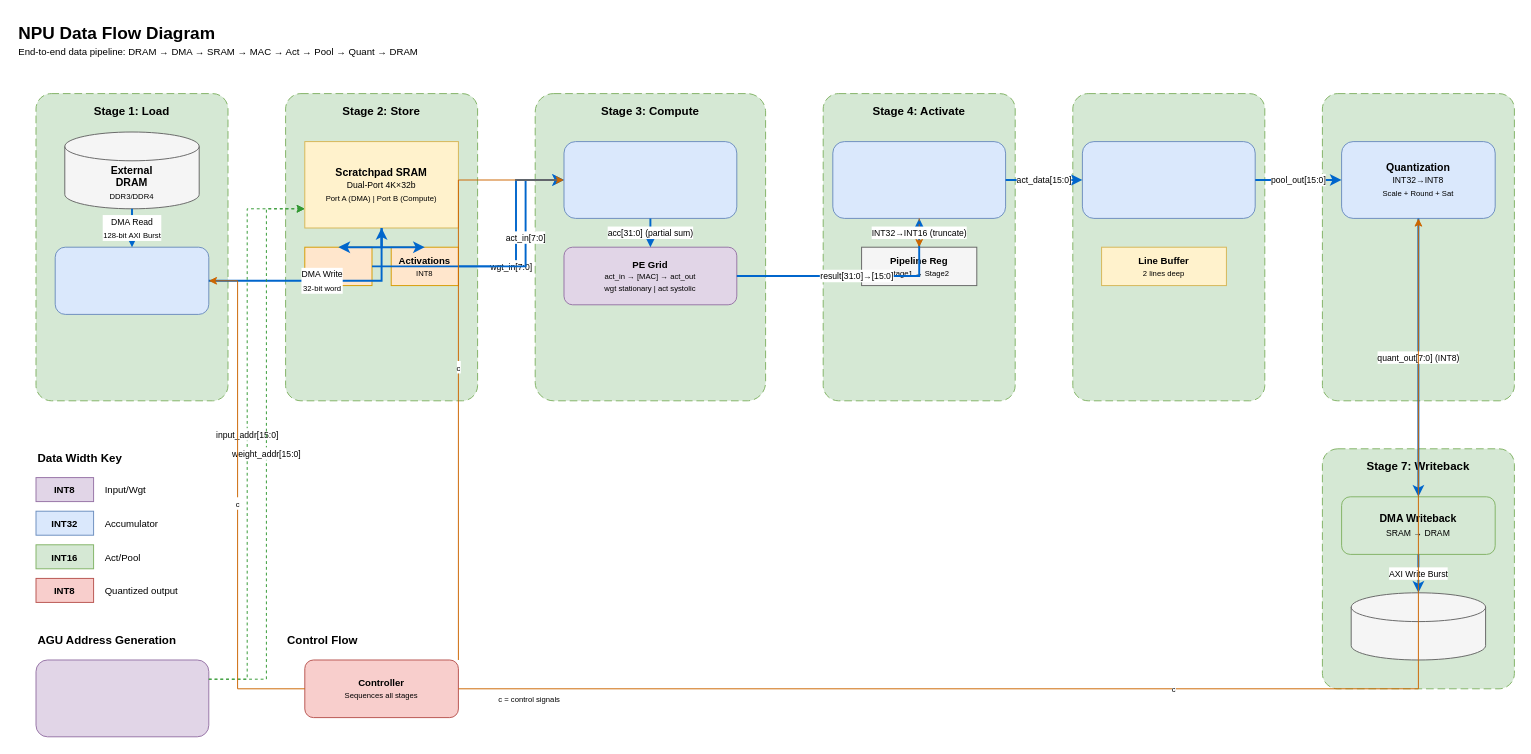
Some shapes in this 1531 by 754 pixel diagram are drawn without their labels. Each missing label, with the box of its shape:
Activation Unit ReLU / LeakyReLU 16-lane vectorized: (832, 141, 1006, 218)
AGU 7-Dimensional N×C×H×W×K×R×S: (35, 659, 209, 737)
DMA Engine AXI4 Master Burst: 16×128-bit: (54, 246, 209, 314)
External DRAM Output Tensor: (1350, 592, 1486, 660)
MAC Array 16×16 Systolic 256 MAC units: (563, 141, 737, 218)
Pooling Unit Max Pool 2×2 /s2 Line Buffer + Window: (1081, 141, 1255, 218)
Stage 5: Pool: (1072, 93, 1265, 401)
Stage 6: Quantize: (1321, 93, 1514, 401)
Weights INT8: (304, 246, 372, 286)
